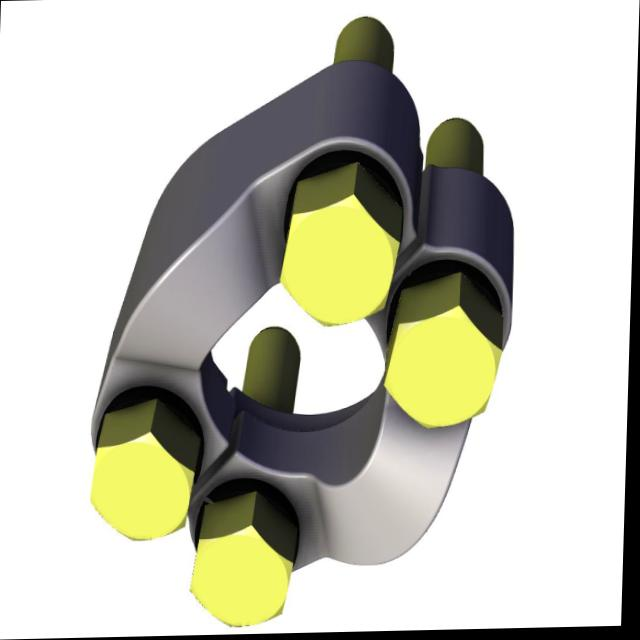Regular bolt: (276, 158, 407, 331), (385, 273, 507, 437), (91, 395, 202, 543), (193, 492, 298, 633)
